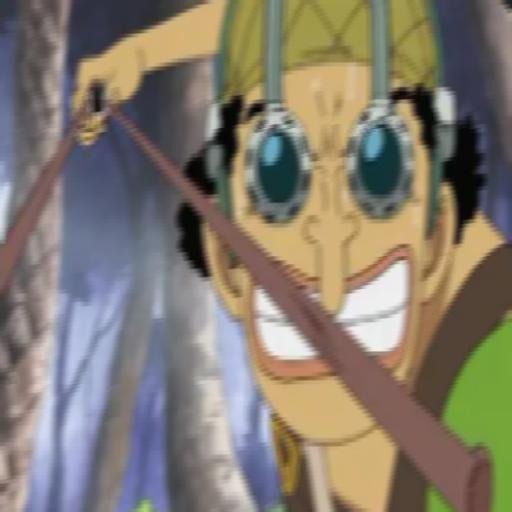Usopp: (68, 0, 510, 512)
